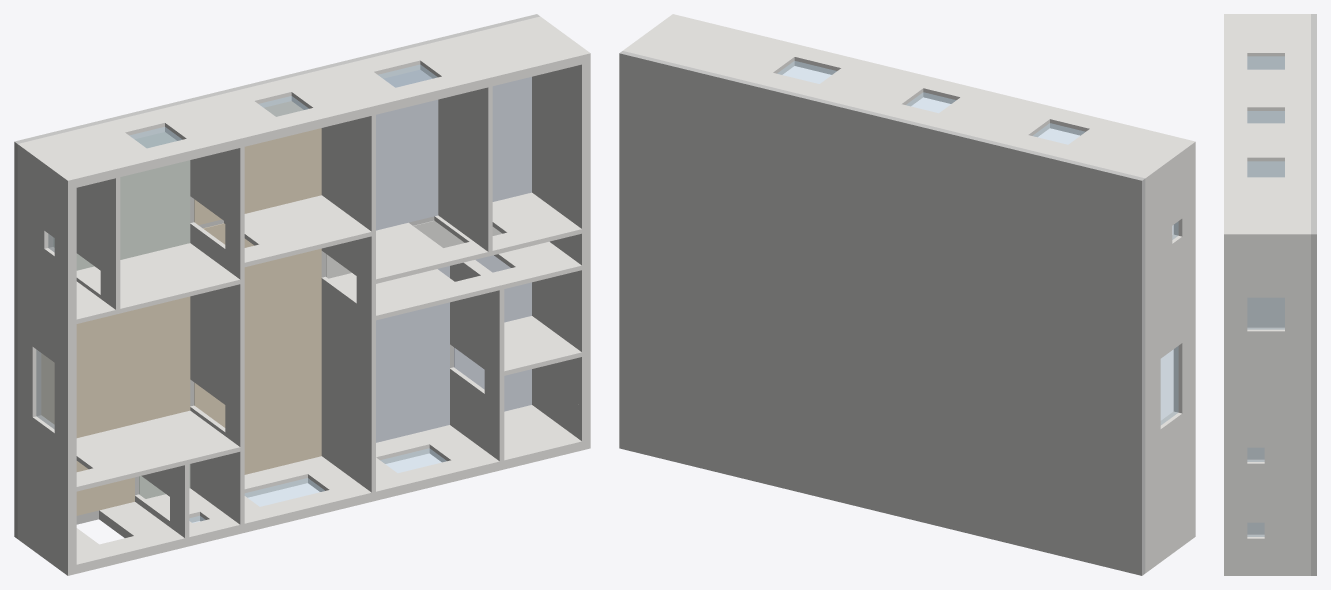
File: family_seed4.glb
3 renders of one model, left to right at view 1: azimuth 30°, elevation 25°; view 2: azimuth 150°, elevation 25°; view 3: azimuth 270°, elevation 25°, orthographic. The views are drawn at different scales.
Parts seen in each view (by area): view 1: wall_5, wall_1, wall_4, floor_living1, wall_6, floor_salon1, wall_2, wall_7, wall_0, floor_master1, wall_3, floor_bedroom1 (+26 smaller); view 2: slab, wall_2, wall_0, wall_5, wall_1, wall_3, wall_4, lintel_13, glass_13, sill_13, lintel_21, lintel_17 (+3 smaller); view 3: wall_5, wall_2, wall_3, wall_4, slab, glass_22, sill_22, lintel_22, sill_20, sill_23, glass_21, sill_21 (+11 smaller).
Part boxes in pixels (x1,y1,x2,y2): wall_5: (405,16,590,478); wall_1: (17,222,248,415); wall_4: (224,61,458,286); floor_living1: (194,223,321,474); wall_6: (293,269,469,508); floor_salon1: (41,296,190,437); wall_2: (17,121,160,281); wall_7: (76,405,273,537); wall_0: (17,406,114,575); floor_master1: (376,266,449,442); wall_3: (150,90,289,232); floor_bedroom1: (376,70,438,230); slab: (619,51,1145,575); wall_2: (1053,119,1195,244); wall_0: (1145,404,1195,573); wall_5: (623,14,807,83); wall_1: (1145,227,1195,369); wall_3: (924,87,1062,145); wall_4: (805,58,936,114); lintel_13: (1173,333,1195,413); glass_13: (1161,346,1178,424); sill_13: (1145,359,1160,440); lintel_21: (794,47,854,74); lintel_17: (1050,109,1102,135); wall_5: (1224,177,1310,575); wall_2: (1224,14,1310,69); wall_3: (1224,69,1310,123); wall_4: (1224,123,1310,177); slab: (1311,14,1316,575); glass_22: (1247,298,1284,329); sill_22: (1285,297,1310,331); lintel_22: (1224,297,1247,331); sill_20: (1264,522,1310,538); sill_23: (1264,447,1310,463); glass_21: (1247,161,1284,176); sill_21: (1285,157,1310,177).
Bounding box in the file's own units: 18 × 13 × 3.2.
